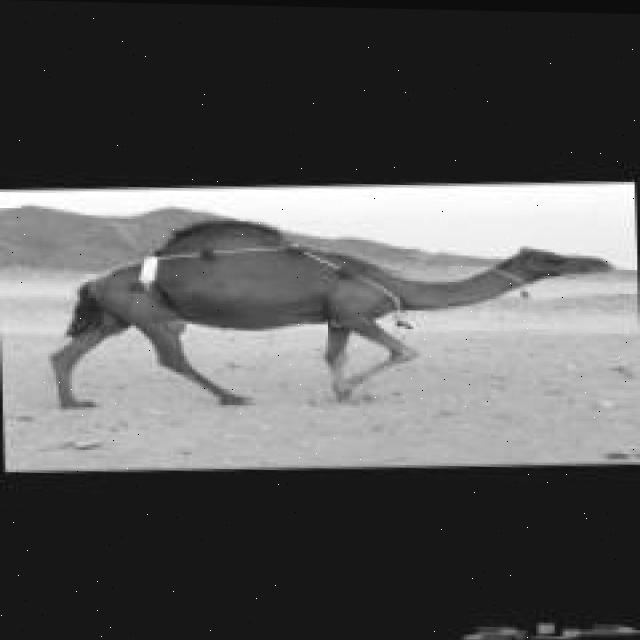Camel: (48, 212, 611, 422)
